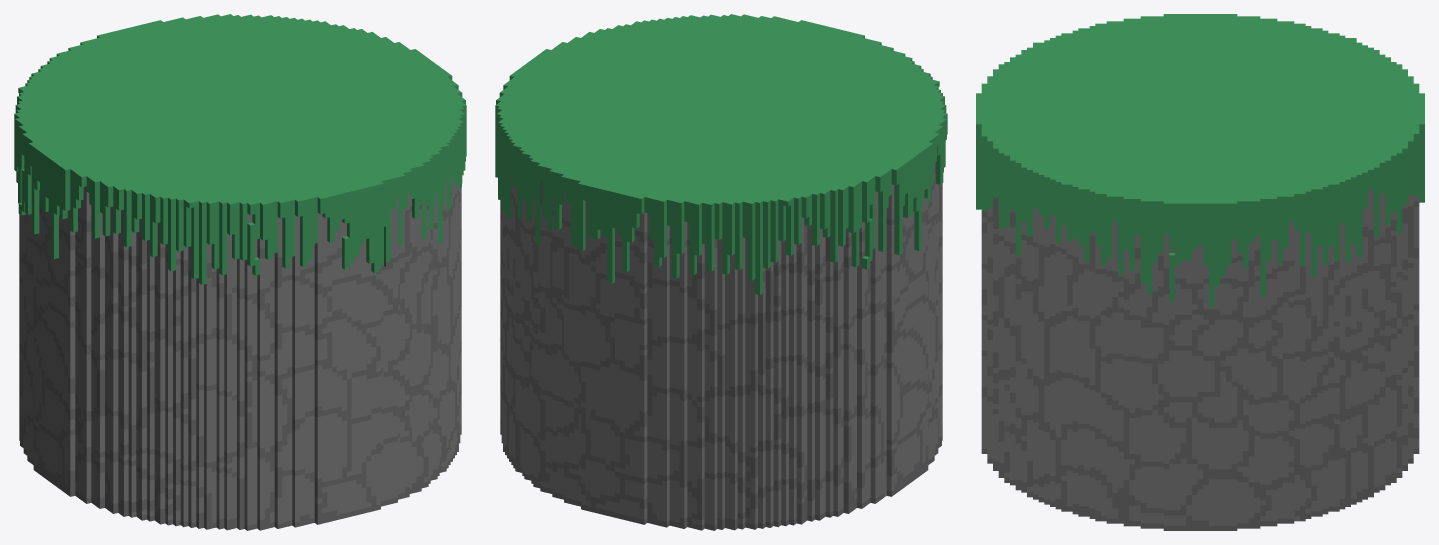
Rendered from Mountain2.obj.
3 views of the same model, side by side, from view 1: azimuth 30°, elevation 25°; view 2: azimuth 150°, elevation 25°; view 3: azimuth 270°, elevation 25° (orthographic).
Bounding box in the file's own units: 7.9 × 6.4 × 7.9.
Materials: 1 (1 with a texture image).
